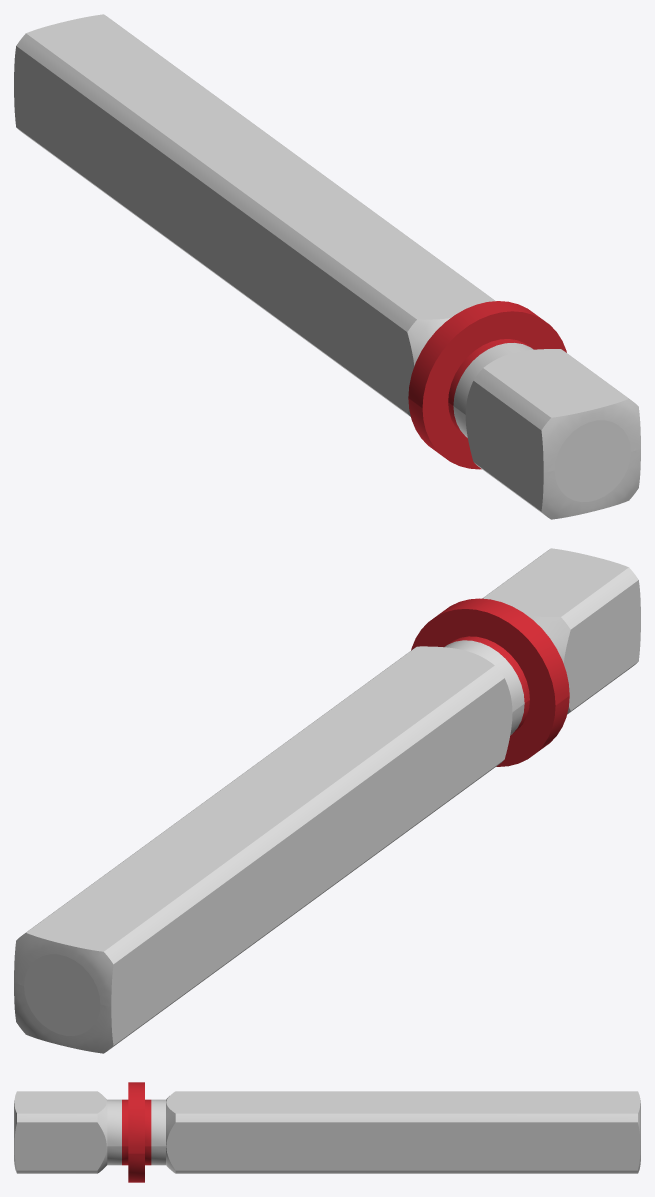
The model's file is 2x Pitch Motor Shaft (228-2500-2234).glb.
The picture shows the model from 3 angles, top to bottom: view 1: azimuth 30°, elevation 25°; view 2: azimuth 150°, elevation 25°; view 3: azimuth 270°, elevation 25°; orthographic projection. The views are drawn at different scales.
Parts seen in each view (by area): view 1: 2x Pitch Motor Shaft (228-2500-2234); view 2: 2x Pitch Motor Shaft (228-2500-2234); view 3: 2x Pitch Motor Shaft (228-2500-2234).
Boxes of the visible parts, x1,y1,x2,y2 form: 2x Pitch Motor Shaft (228-2500-2234): (14,14,640,519); 2x Pitch Motor Shaft (228-2500-2234): (14,548,640,1053); 2x Pitch Motor Shaft (228-2500-2234): (14,1082,640,1182).
Size of the model in its own units: 0.189 by 0.1884 by 1.18.
